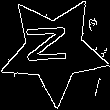N_E: (29, 29, 79, 72)
